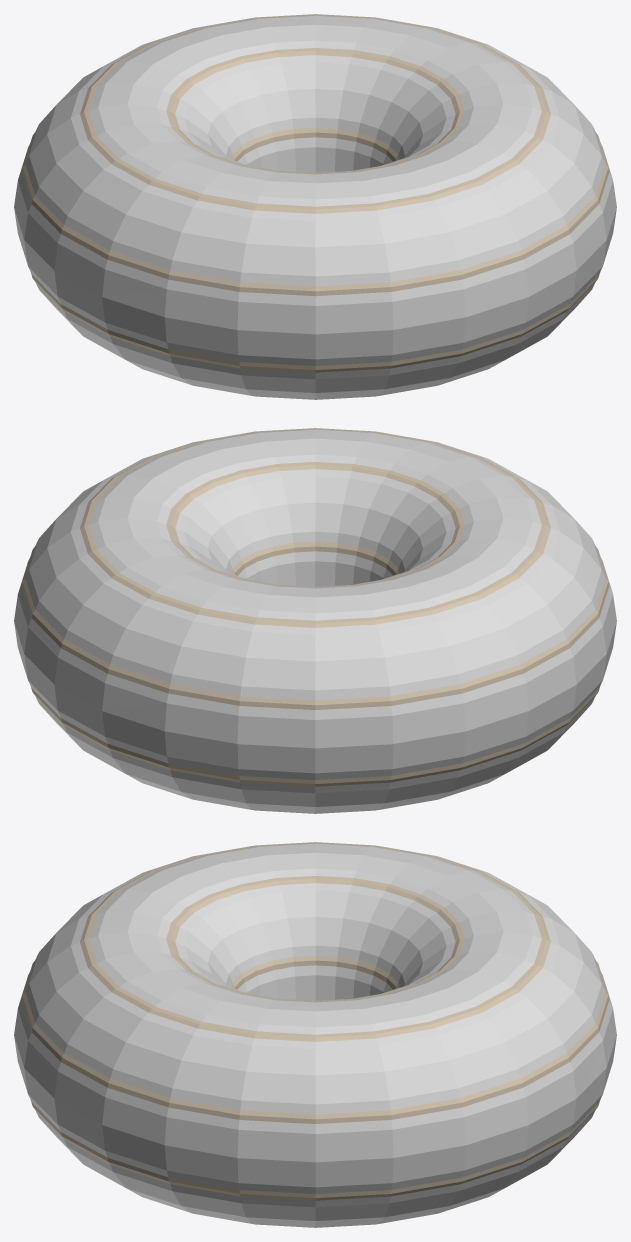
File: asset.glb
3 renders of one model, top to bottom at view 1: azimuth 30°, elevation 25°; view 2: azimuth 150°, elevation 25°; view 3: azimuth 270°, elevation 25°, orthographic.
Visible parts, largest first — view 1: Mesh_Mesh_head_geo.001_lambert2SG.001; view 2: Mesh_Mesh_head_geo.001_lambert2SG.001; view 3: Mesh_Mesh_head_geo.001_lambert2SG.001.
Part boxes in pixels (bbox=[...]): Mesh_Mesh_head_geo.001_lambert2SG.001: bbox=[14, 14, 616, 399]; Mesh_Mesh_head_geo.001_lambert2SG.001: bbox=[14, 428, 616, 813]; Mesh_Mesh_head_geo.001_lambert2SG.001: bbox=[14, 842, 616, 1227].
Bounding box in the file's own units: 27.96 × 10.53 × 27.96.
